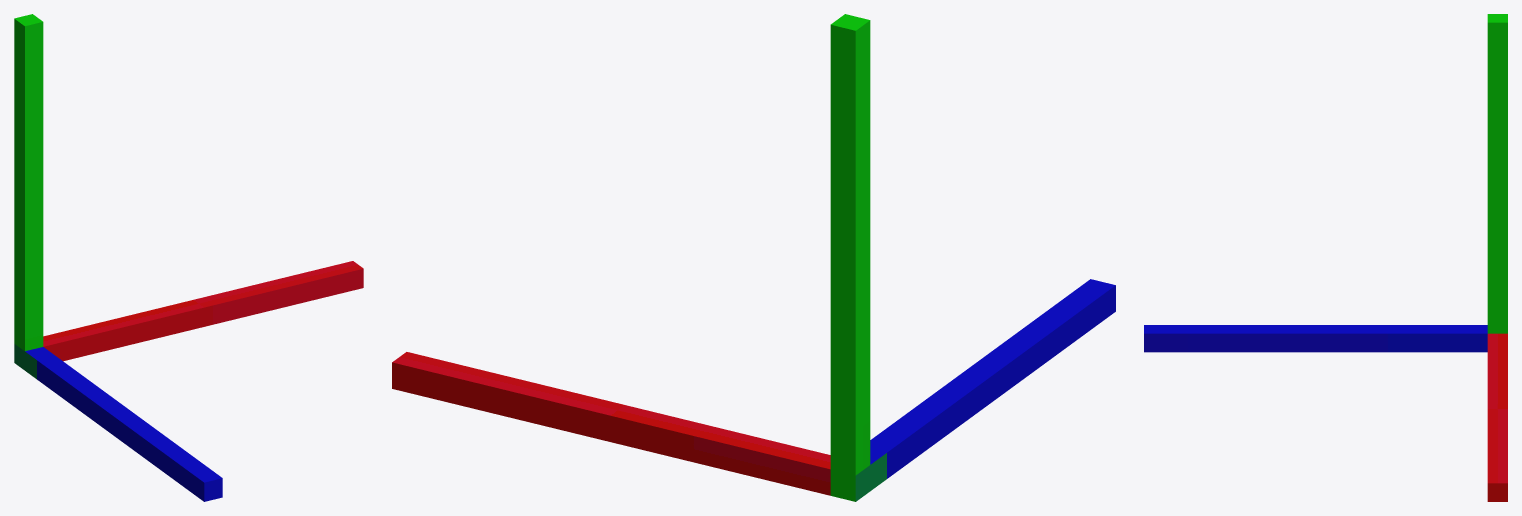
Rendered from gizmo.glb.
The picture shows the model from 3 angles, left to right: view 1: azimuth 30°, elevation 25°; view 2: azimuth 150°, elevation 25°; view 3: azimuth 270°, elevation 25°; orthographic projection. The views are drawn at different scales.
Parts seen in each view (by area): view 1: gizmo; view 2: gizmo; view 3: gizmo.
Part boxes in pixels (x1,y1,x2,y2): gizmo: (14, 14, 363, 501); gizmo: (392, 14, 1115, 501); gizmo: (1144, 14, 1507, 501).
Size of the model in its own units: 1.05 by 1.02 by 1.02.
1 material, 1 textured.
